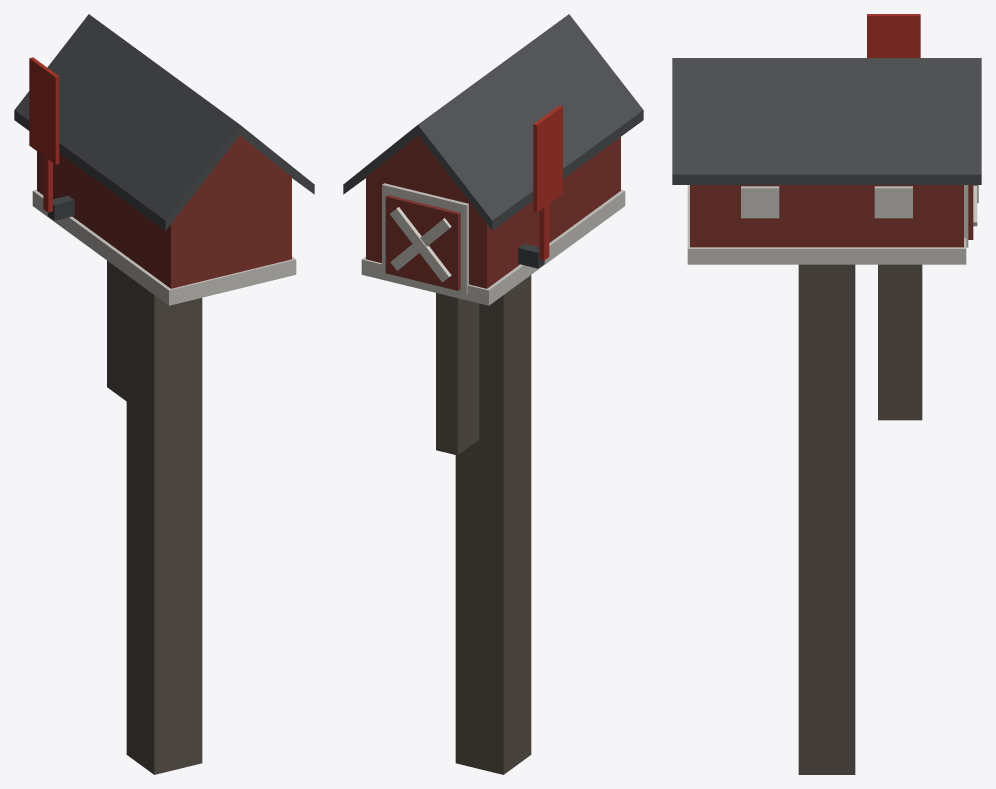
Rendered from mailbox-barn.glb.
3 views of the same model, side by side, from view 1: azimuth 30°, elevation 25°; view 2: azimuth 150°, elevation 25°; view 3: azimuth 270°, elevation 25° (orthographic). The views are drawn at different scales.
Parts seen in each view (by area): view 1: MailboxBarn, Flag; view 2: MailboxBarn, Flag; view 3: MailboxBarn, Flag.
Part boxes in pixels (x1=…): MailboxBarn: x1=14, y1=14, x2=314, y2=774; Flag: x1=29, y1=57, x2=59, y2=212; MailboxBarn: x1=343, y1=14, x2=643, y2=774; Flag: x1=533, y1=105, x2=562, y2=260; MailboxBarn: x1=672, y1=58, x2=981, y2=774; Flag: x1=867, y1=14, x2=920, y2=57.
Bounding box in the file's own units: 0.3035 × 1.22 × 0.486.
